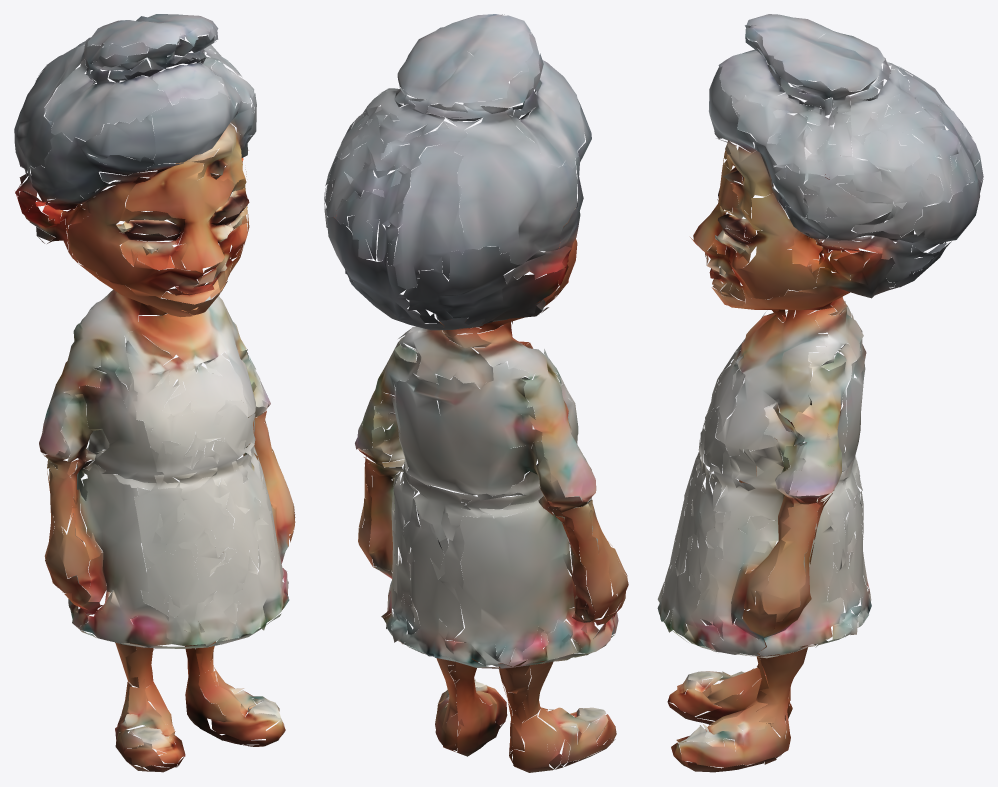
Rendered from abuela-patio-lod1.glb.
3 views of the same model, side by side, from view 1: azimuth 30°, elevation 25°; view 2: azimuth 150°, elevation 25°; view 3: azimuth 270°, elevation 25° (orthographic). The views are drawn at different scales.
Visible parts, largest first — view 1: geometry_0; view 2: geometry_0; view 3: geometry_0.
Boxes of the visible parts, box(x1,y1,x2,y2) form: geometry_0: box(14, 14, 295, 772); geometry_0: box(324, 14, 628, 772); geometry_0: box(657, 14, 983, 772).
Bounding box in the file's own units: 1.48 × 4.14 × 1.7.
1 material, 1 textured.
